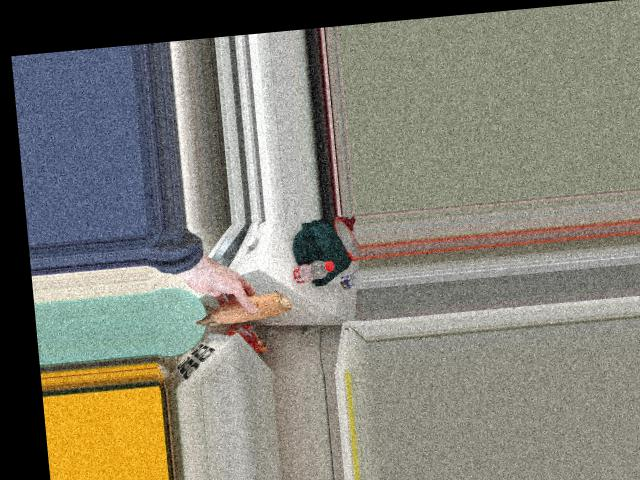sweet_potato: (194, 292, 286, 326)
